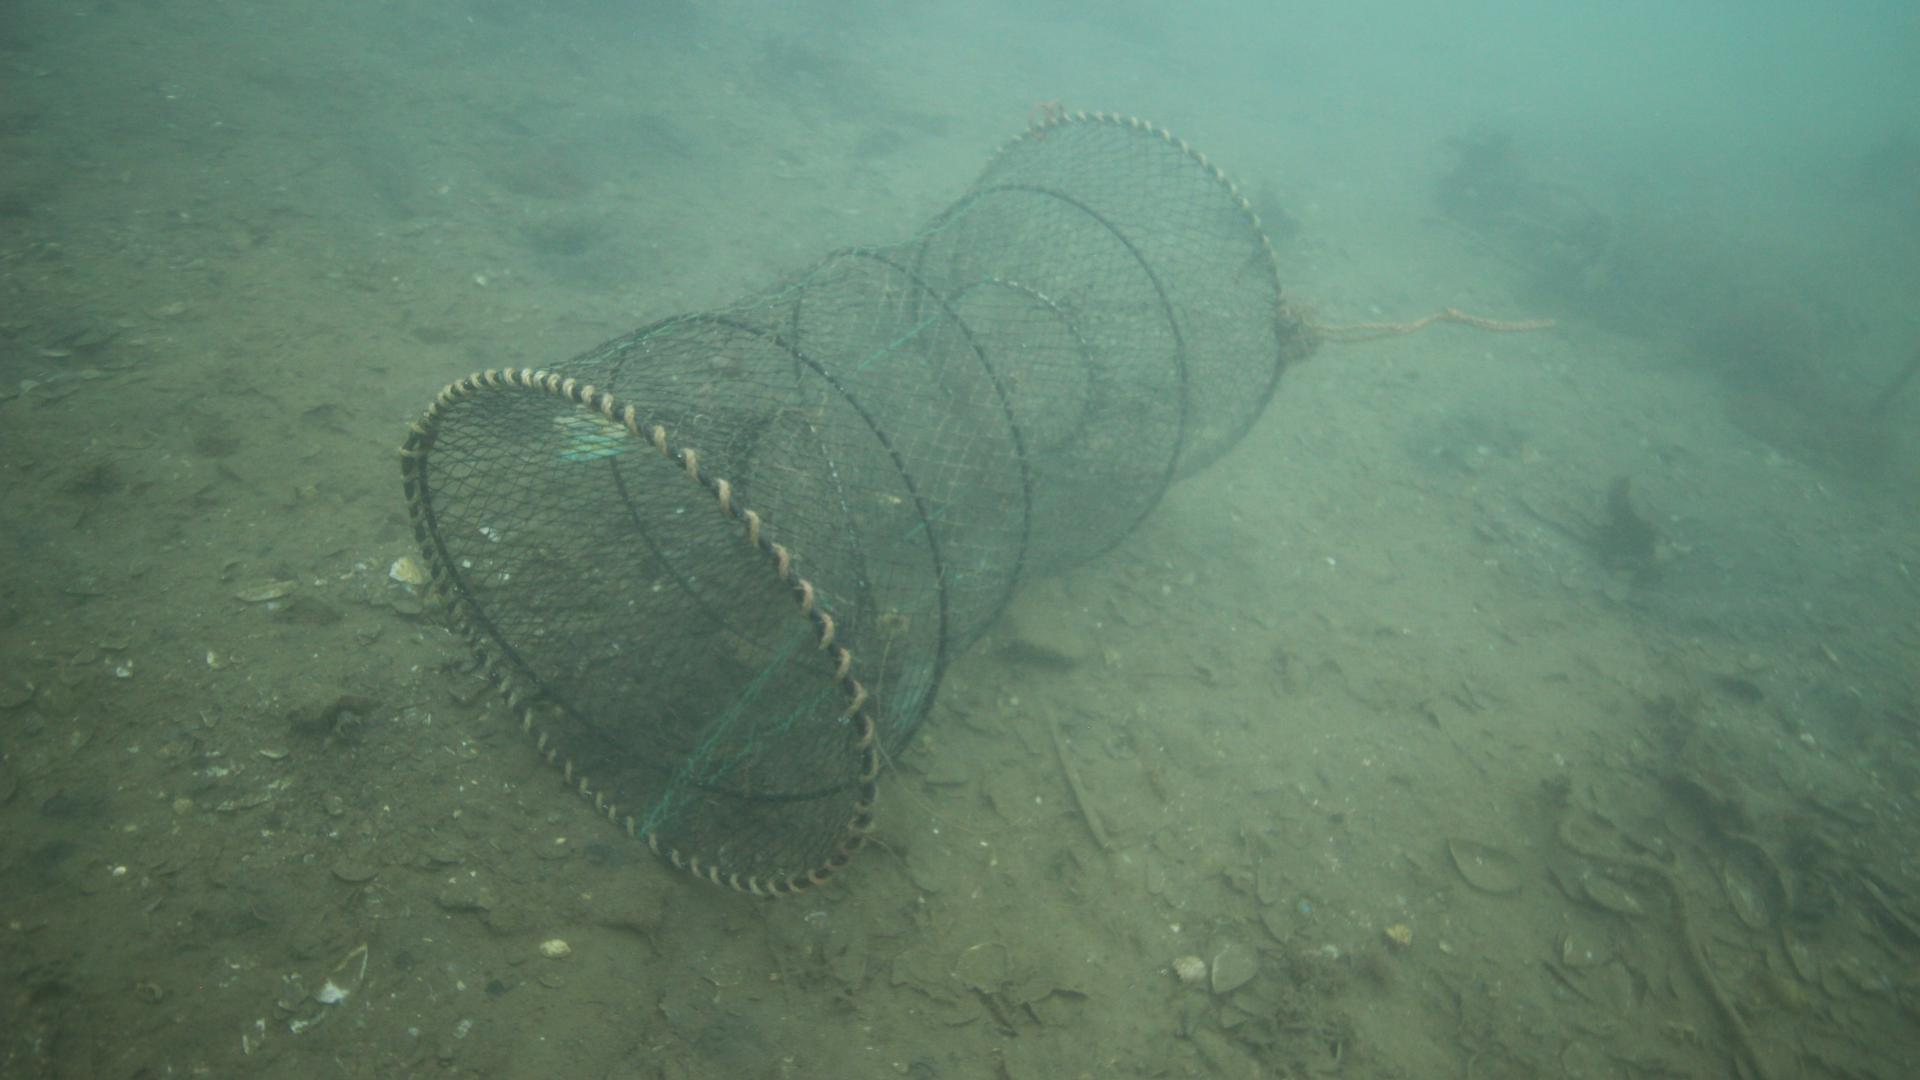bundle of ropes: (1300, 305, 1559, 338)
spring fish trap: (402, 109, 1284, 891)
